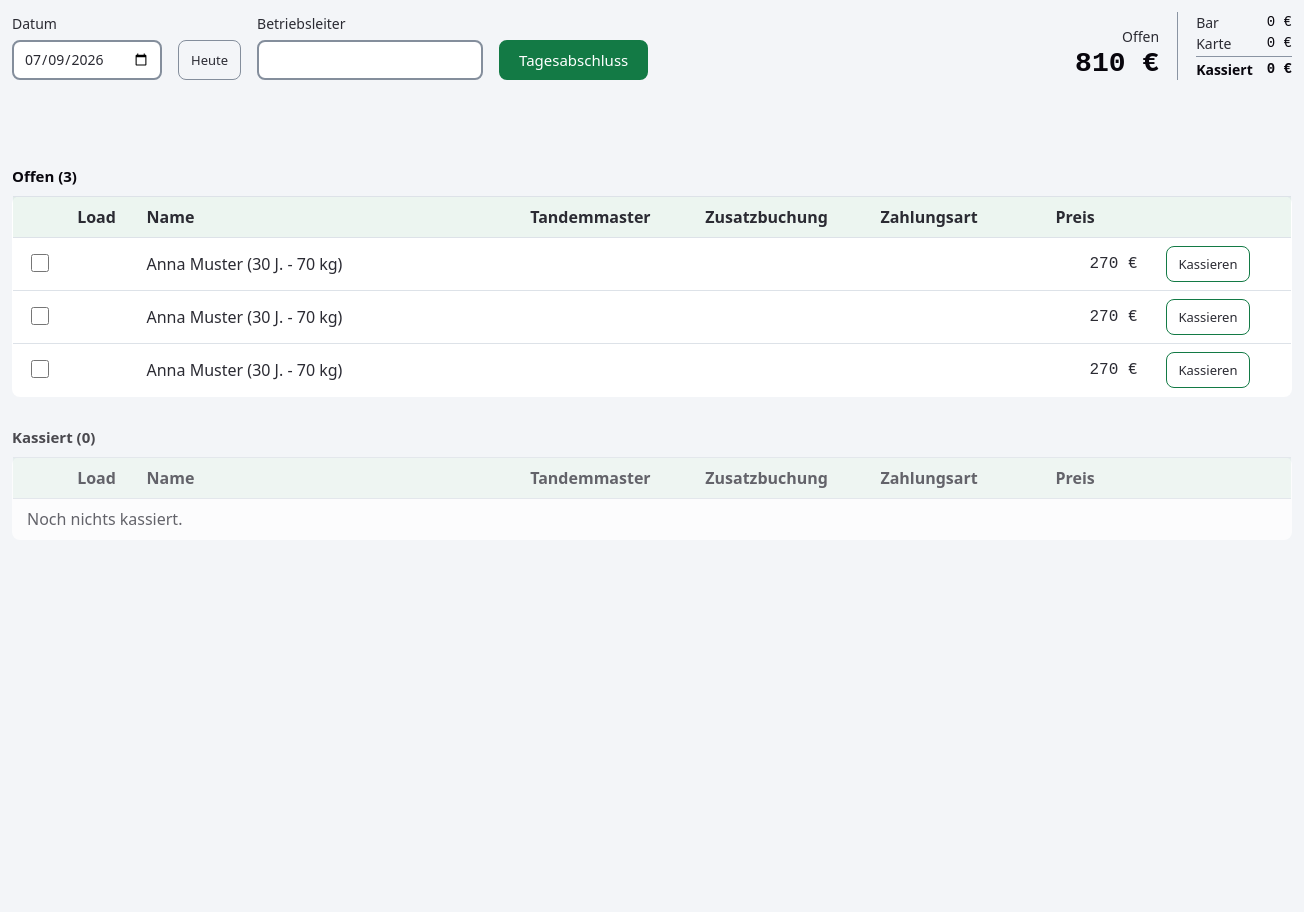
Test: List › Export-Warnung › does not count the same open tandems twice as also missing a Zahlungsart
Click the button "Tagesabschluss": (574, 60) [499,40,648,80]
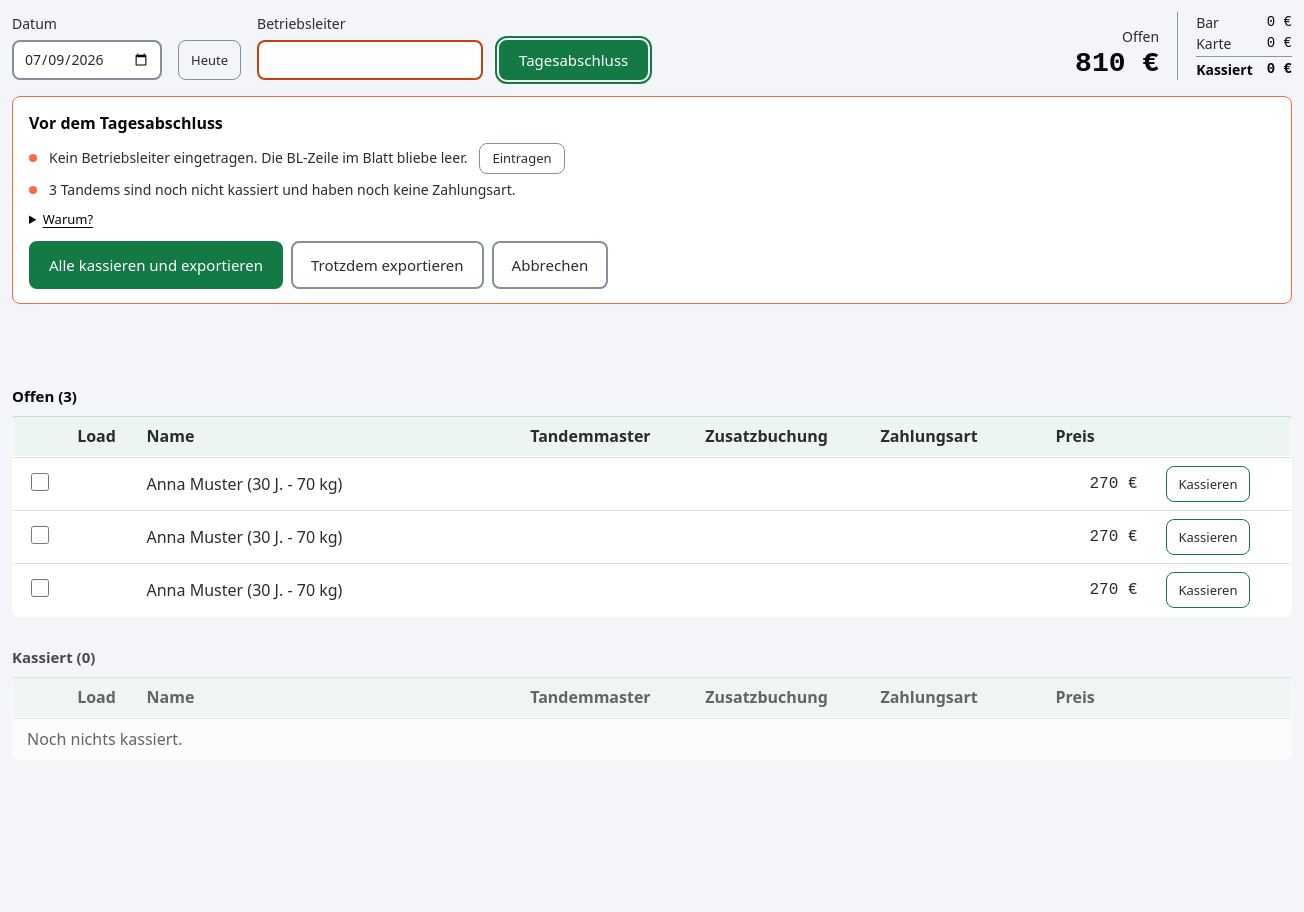
expect the text "3 Tandems sind noch nicht kassiert und haben noch keine Zahlungsart." is shown: met, box [49,180,516,200]
